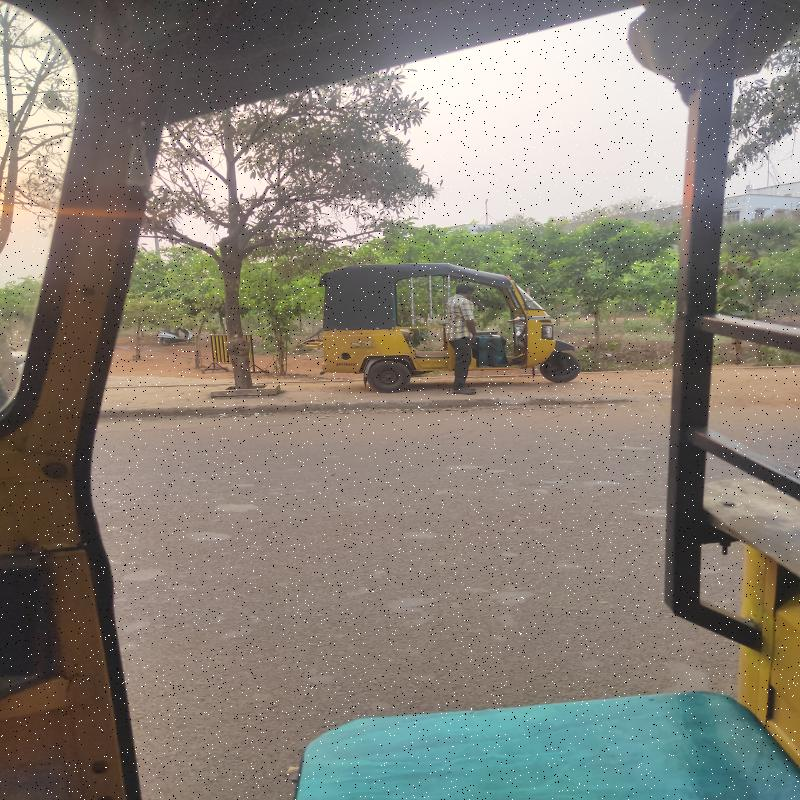auto: (322, 266, 571, 388)
